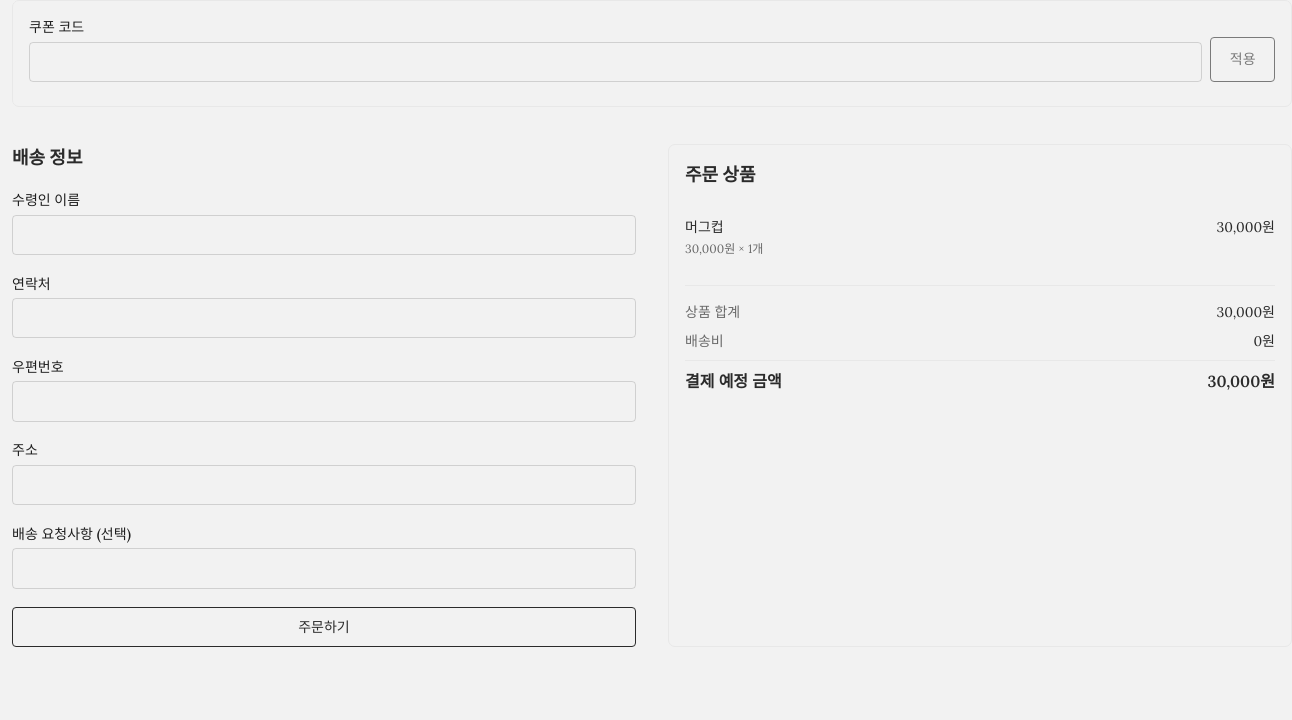
SPEC-DISCOUNT-001 M6b — AC-DISCOUNT-024 (four distinct rejection messages) › embeds the required minimum in the COUPON_MINIMUM_NOT_MET message
The image size is (1292, 720).
Type "SAVE10" into the field labelled "쿠폰 코드" at (616, 62), box 29,42 -> 1202,82
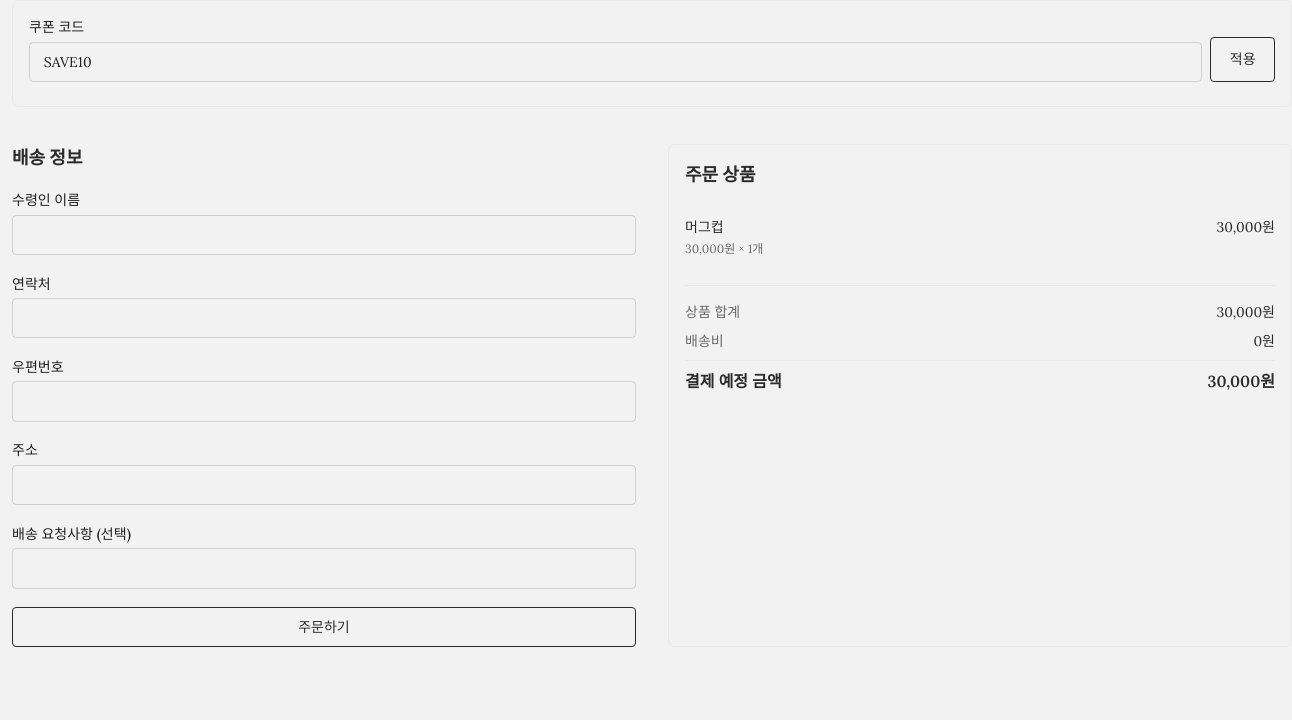
Click the button "적용" at (1243, 60), box 1210,37 -> 1275,82
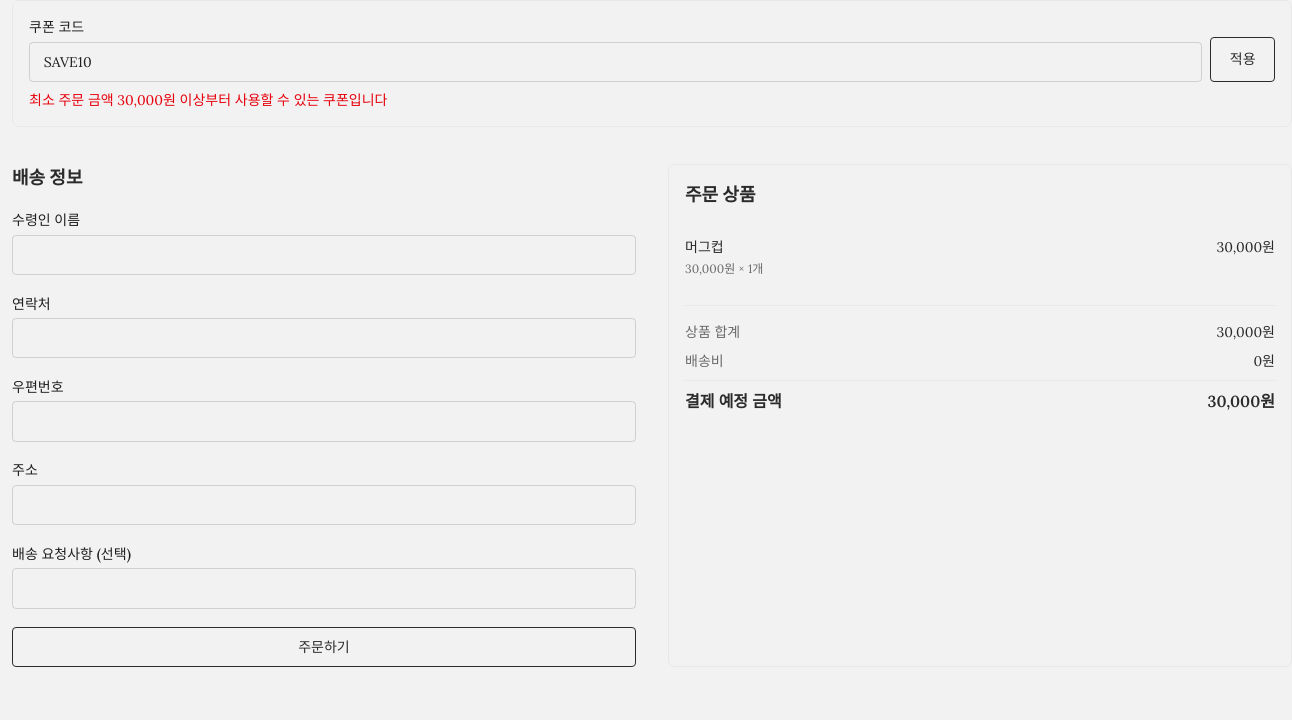
Expected: the message shows "30,000", 29,91 -> 388,109
